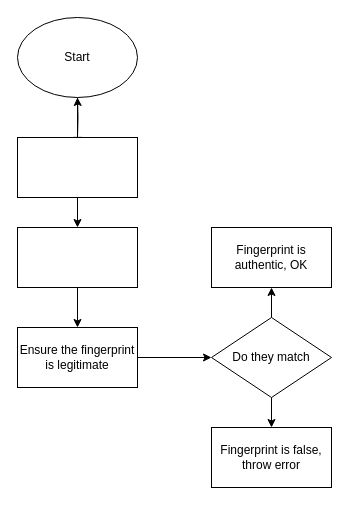
Some shapes in this 349 by 505 pixel diagram are drawn without their labels. Here are the shapes that lost their labels. From the top down, the centre of each, then its label:
At [77,167]: "Process fingerprint retrieved from browser".
At [77,257]: "Process private fingerprint from server".
